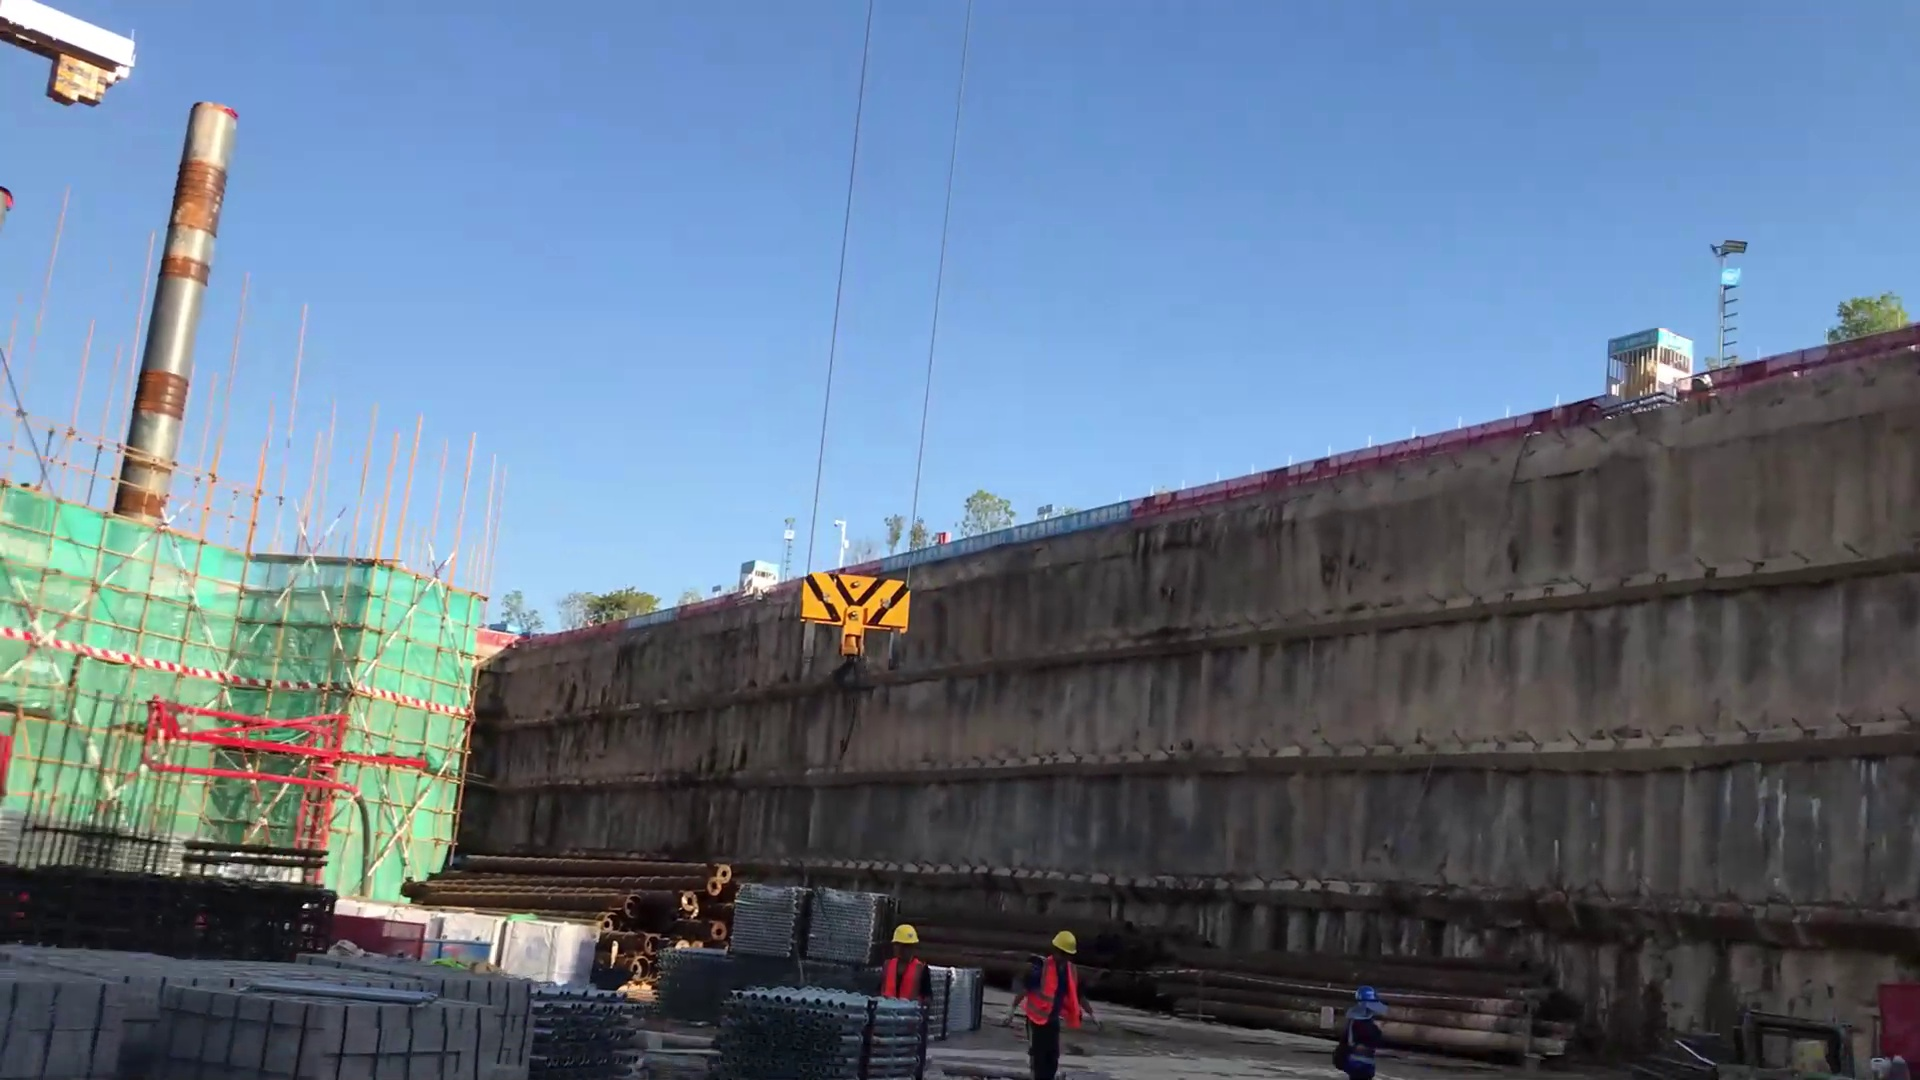brick: (5, 899, 535, 1080)
helmet: (1042, 923, 1089, 969), (891, 920, 931, 945)
hook: (796, 564, 913, 669)
scaffold: (715, 968, 945, 1080)
vest: (1025, 945, 1083, 1033), (876, 943, 923, 1004)
